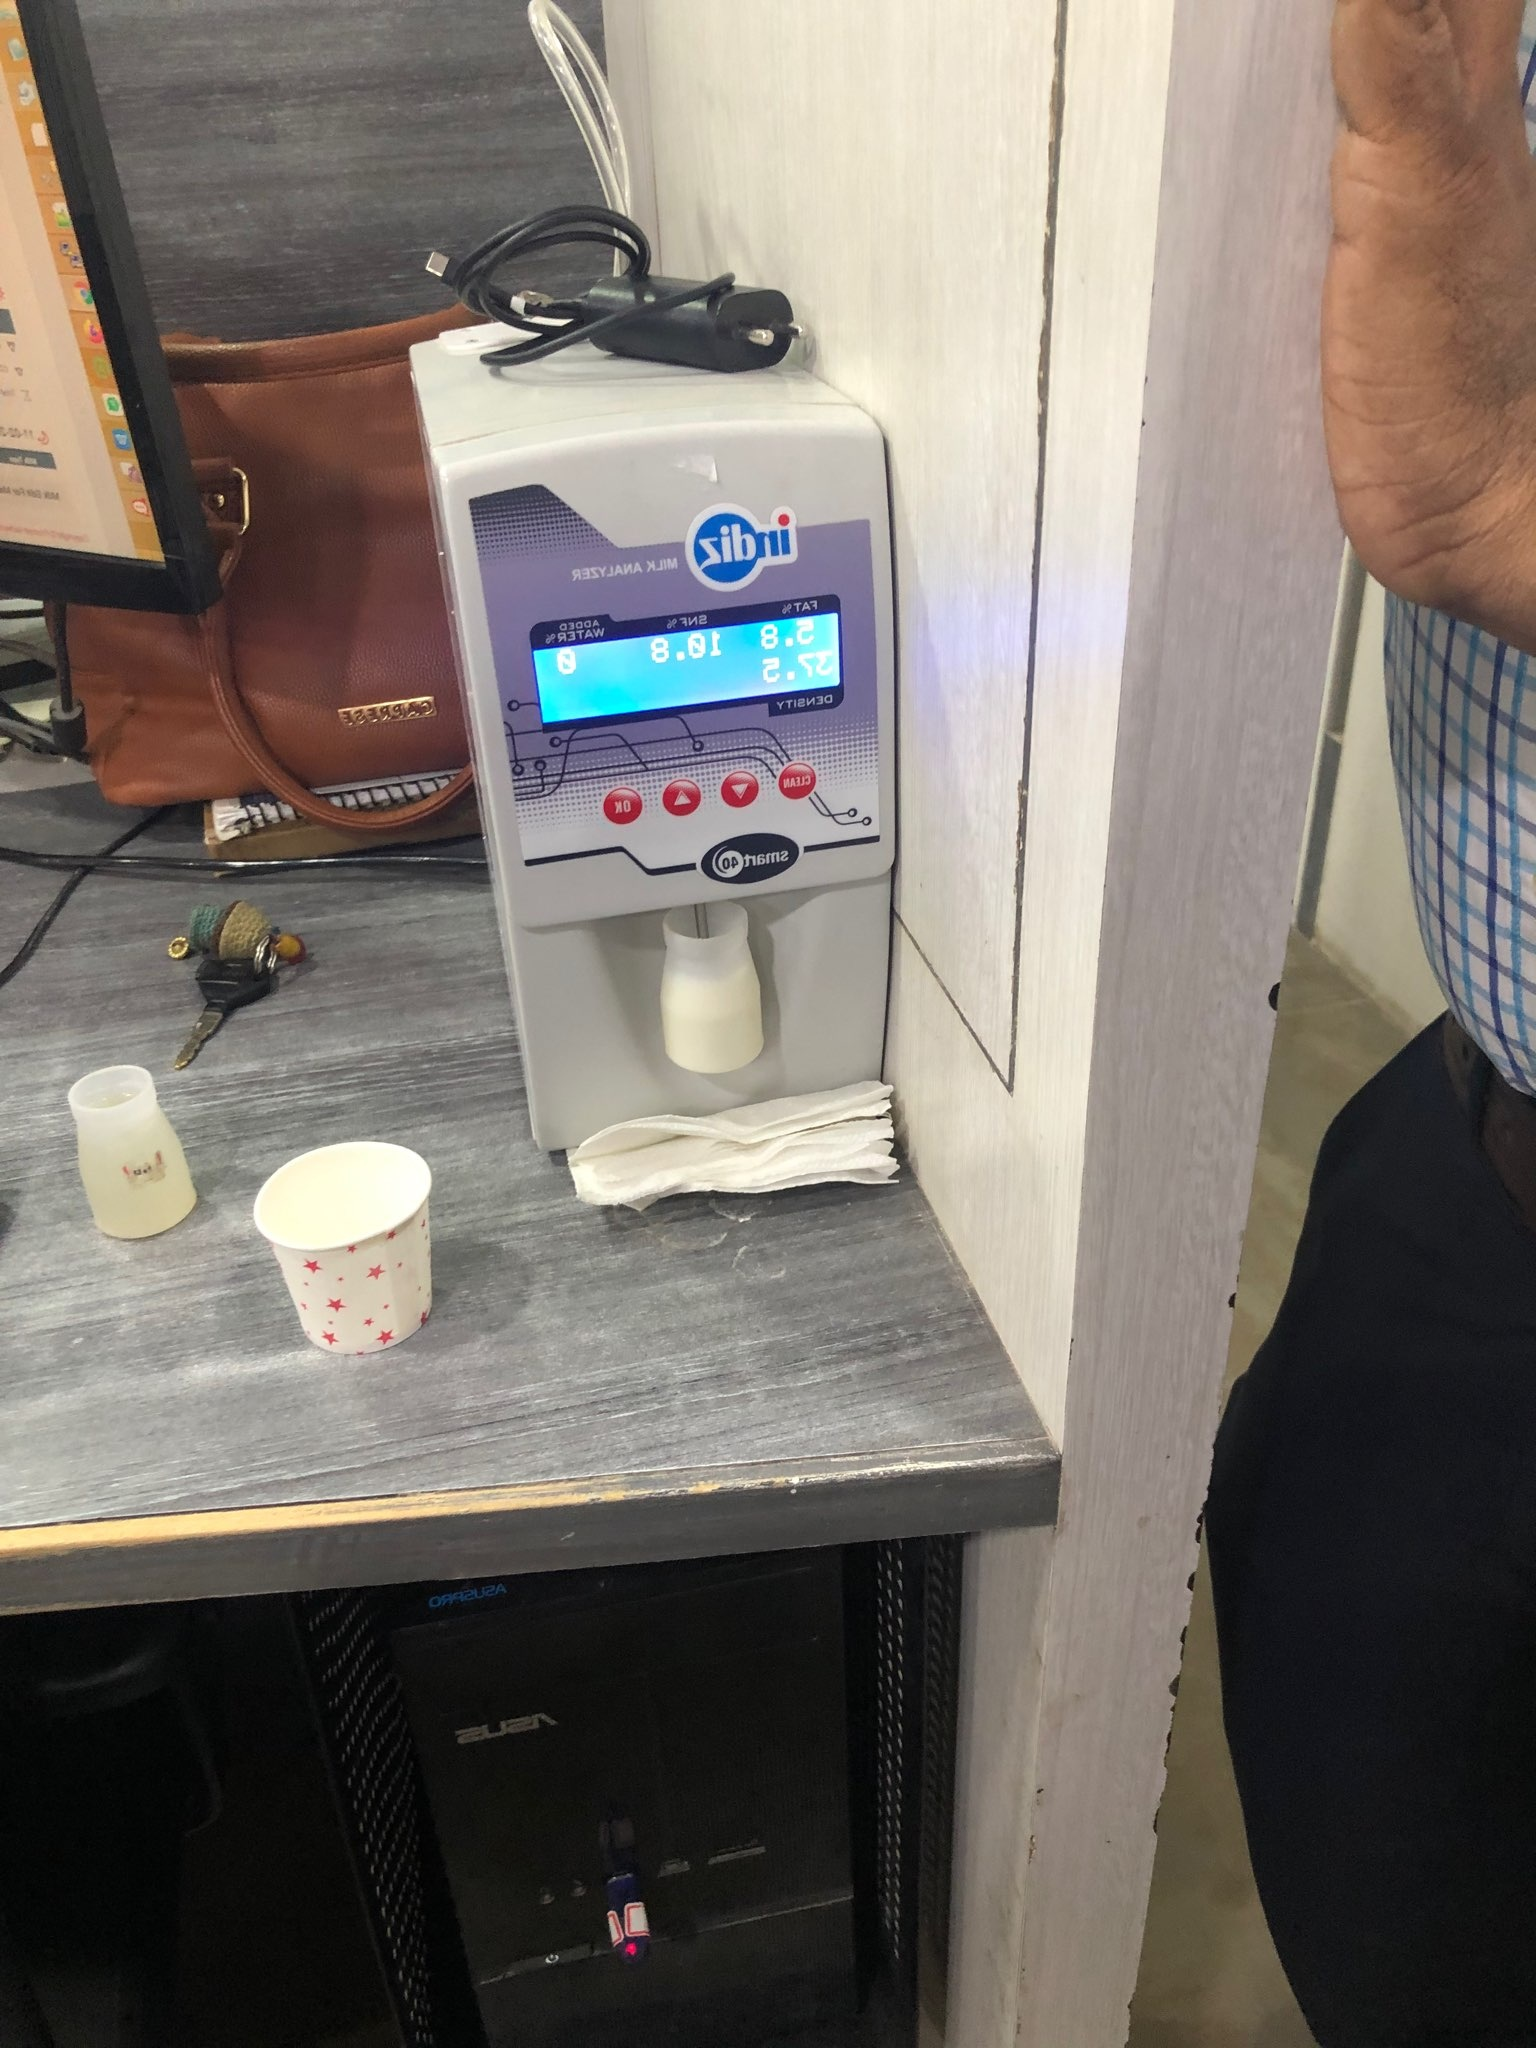lcd: (524, 598, 850, 742)
